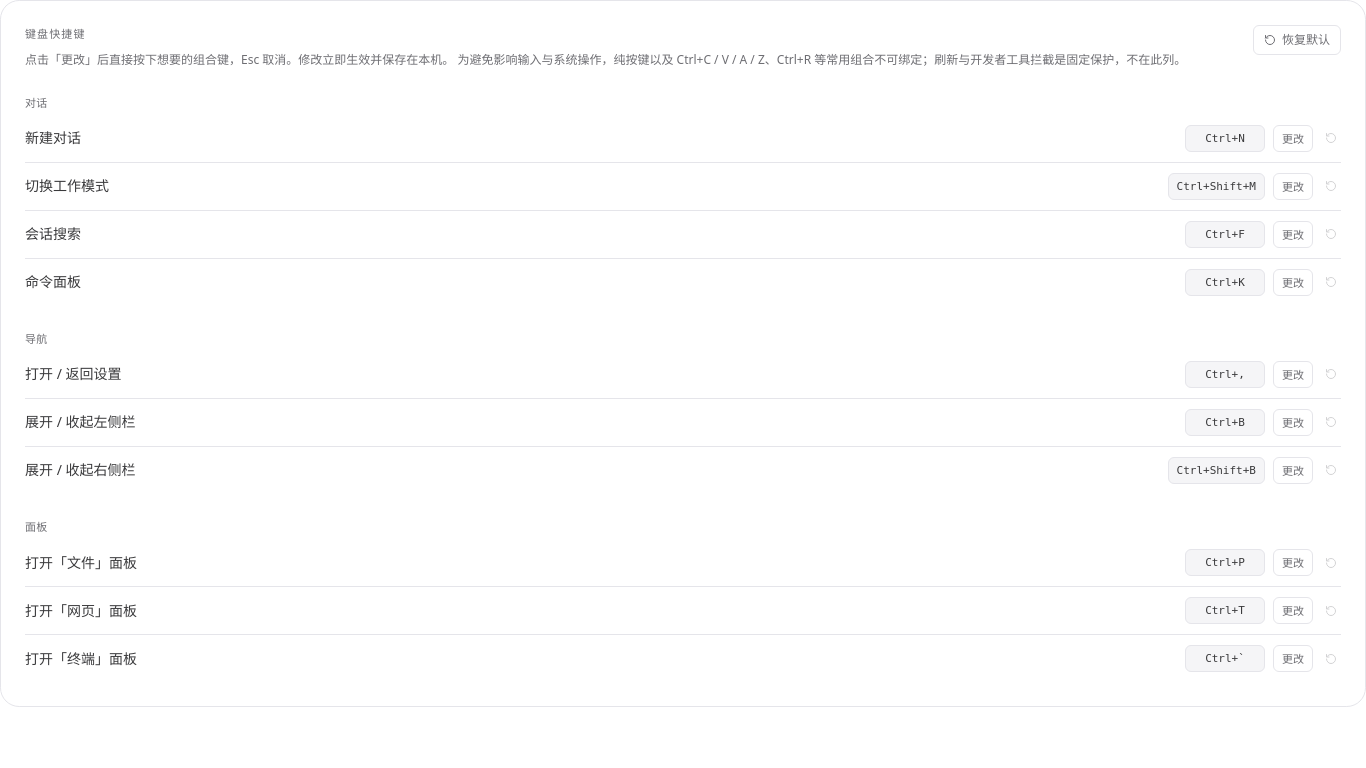
Test case: 快捷键设置分区 › 点击更改进入录制态，按下组合键后立即保存
Later steps or results of the test are not shown.
What coordinates should you click on to do the following:
click the button "更改" next to "Ctrl+N"
I would click on:
 (1293, 138)
Its box is [1273,125,1313,152].
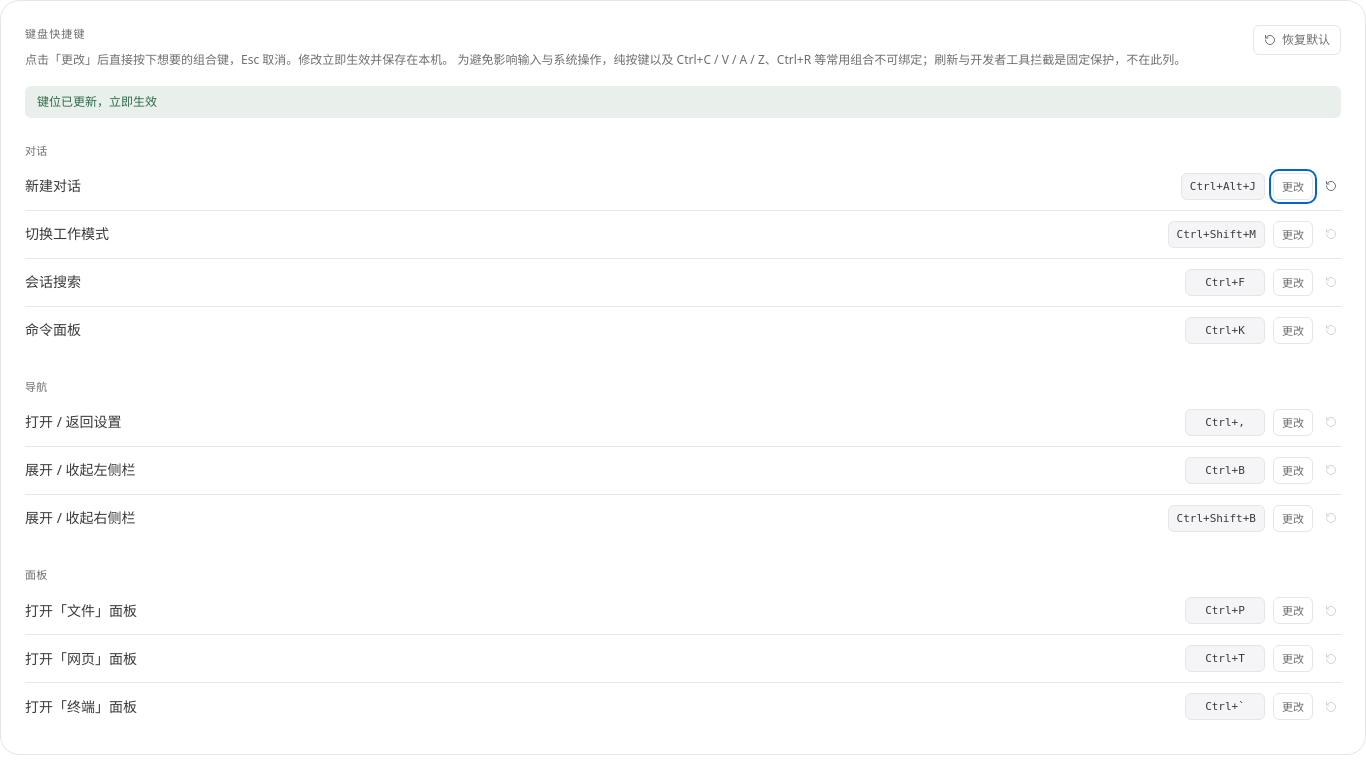
Expected: the text "Ctrl+Alt+J" is shown, [1181,173,1265,200]
Expected: the message shows "立即生效", [37,92,157,110]
